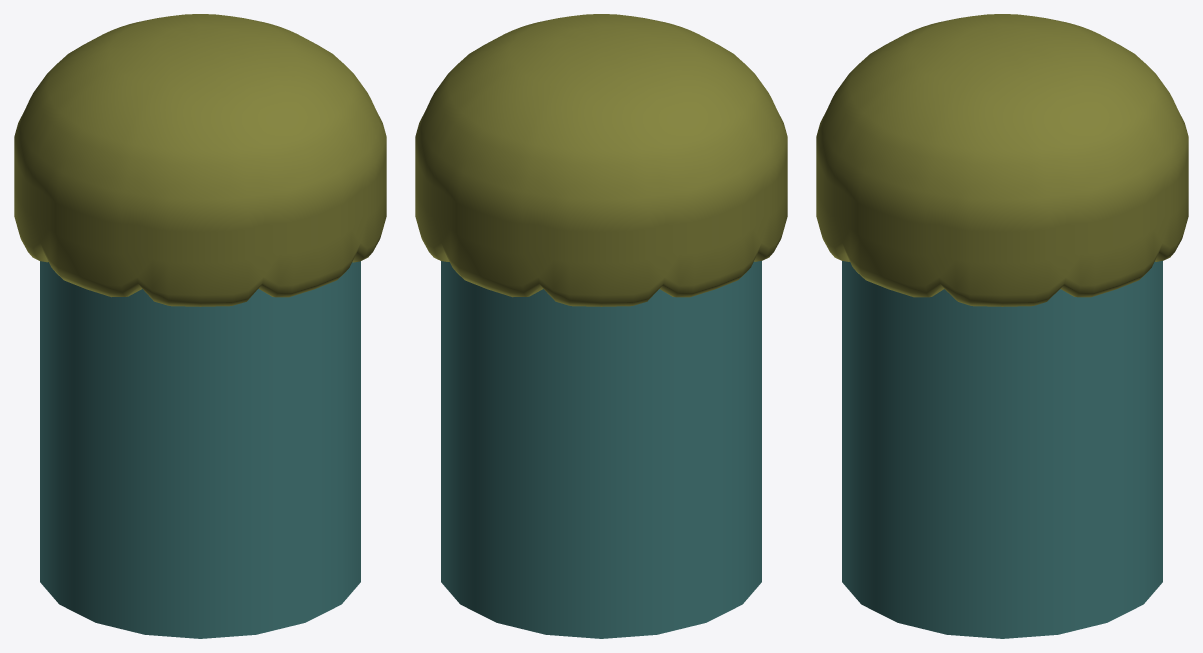
File: Montagne_Honk.fbx
3 renders of one model, left to right at view 1: azimuth 30°, elevation 25°; view 2: azimuth 150°, elevation 25°; view 3: azimuth 270°, elevation 25°, orthographic.
Parts seen in each view (by area): view 1: Base, Toit; view 2: Base, Toit; view 3: Base, Toit.
Part boxes in pixels (x1=…): Base: x1=40, y1=261, x2=360, y2=638; Toit: x1=14, y1=14, x2=386, y2=306; Base: x1=441, y1=261, x2=761, y2=638; Toit: x1=415, y1=14, x2=787, y2=306; Base: x1=842, y1=261, x2=1162, y2=638; Toit: x1=816, y1=14, x2=1188, y2=306.
Bounding box in the file's own units: 50.96 × 80.11 × 51.24.
